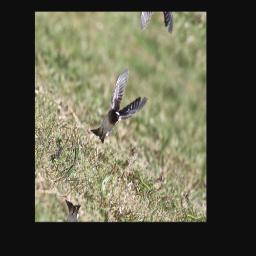Swallow: (89, 60, 153, 159)
